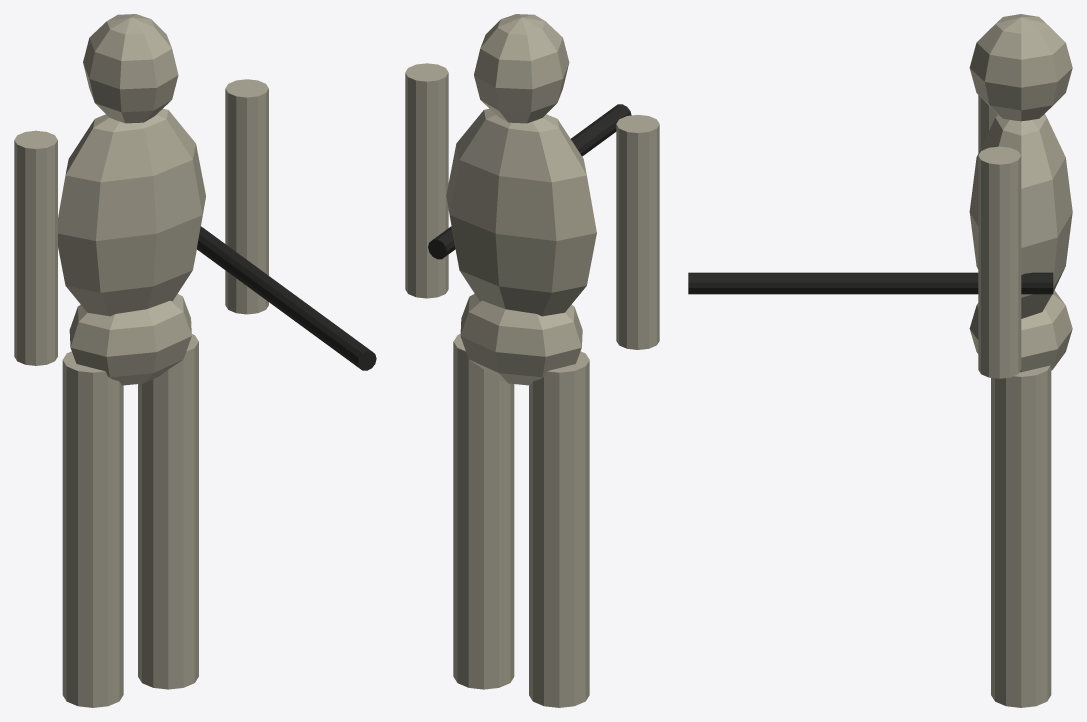
Rendered from pol_rifle.glb.
3 renders of one model, left to right at view 1: azimuth 30°, elevation 25°; view 2: azimuth 150°, elevation 25°; view 3: azimuth 270°, elevation 25°, orthographic.
Visible parts, largest first — view 1: Torso, Leg_L, Leg_R, Arm_L, Arm_R, Head, Pelvis, Rifle; view 2: Torso, Leg_L, Leg_R, Arm_L, Arm_R, Head, Pelvis, Rifle; view 3: Leg_R, Arm_R, Torso, Head, Rifle, Pelvis.
Boxes of the visible parts, <box> form: Torso: <box>58,109,205,316</box>; Leg_L: <box>62,351,123,707</box>; Leg_R: <box>138,334,198,689</box>; Arm_L: <box>14,130,57,365</box>; Arm_R: <box>225,79,268,314</box>; Head: <box>83,14,178,123</box>; Pelvis: <box>69,294,191,385</box>; Rifle: <box>197,226,376,370</box>; Torso: <box>446,108,596,316</box>; Leg_L: <box>529,351,589,707</box>; Leg_R: <box>453,334,514,689</box>; Arm_L: <box>616,115,659,349</box>; Arm_R: <box>405,63,448,298</box>; Head: <box>474,14,569,123</box>; Pelvis: <box>460,293,582,385</box>; Rifle: <box>428,104,631,259</box>; Leg_R: <box>991,365,1051,707</box>; Arm_R: <box>978,146,1021,378</box>; Torso: <box>969,114,1072,318</box>; Head: <box>969,14,1072,121</box>; Rifle: <box>688,272,1053,294</box>; Pelvis: <box>969,290,1072,372</box>.
Bounding box in the file's own units: 0.66 × 1.7 × 0.895.
